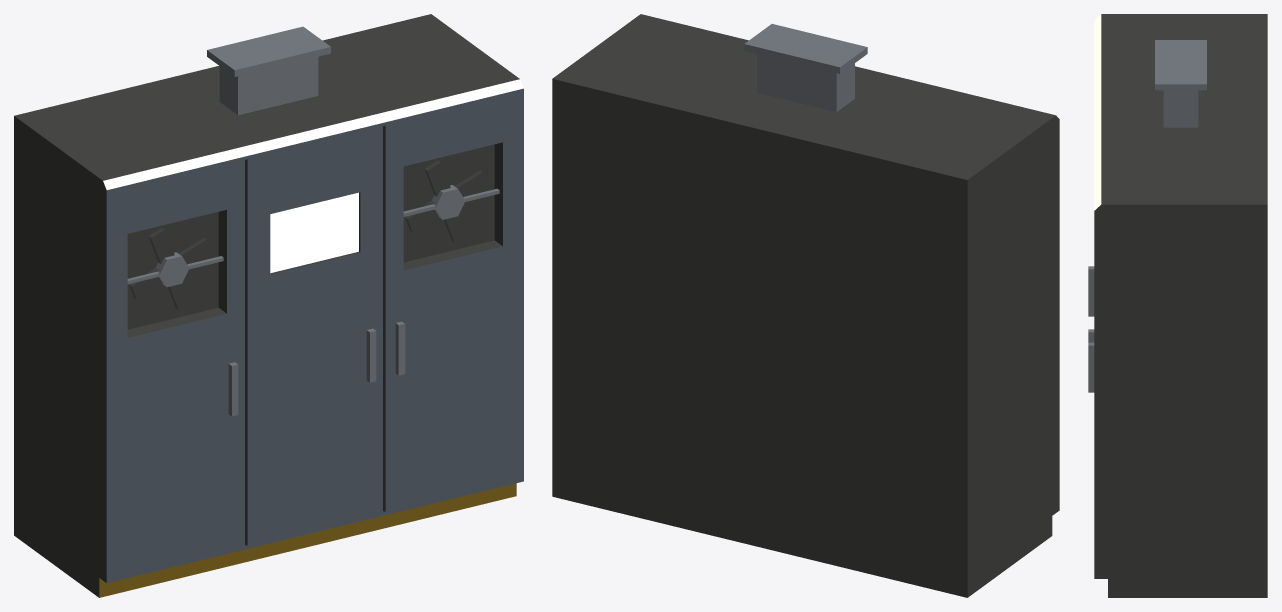
The model's file is power_converter.glb.
The picture shows the model from 3 angles, left to right: view 1: azimuth 30°, elevation 25°; view 2: azimuth 150°, elevation 25°; view 3: azimuth 270°, elevation 25°; orthographic projection. The views are drawn at different scales.
Parts seen in each view (by area): view 1: power_converter; view 2: power_converter; view 3: power_converter.
Boxes of the visible parts, x1,y1,x2,y2 form: power_converter: (14, 14, 523, 597); power_converter: (552, 14, 1059, 597); power_converter: (1088, 14, 1267, 597).
Size of the model in its own units: 2.6 by 2.8 by 1.03.
